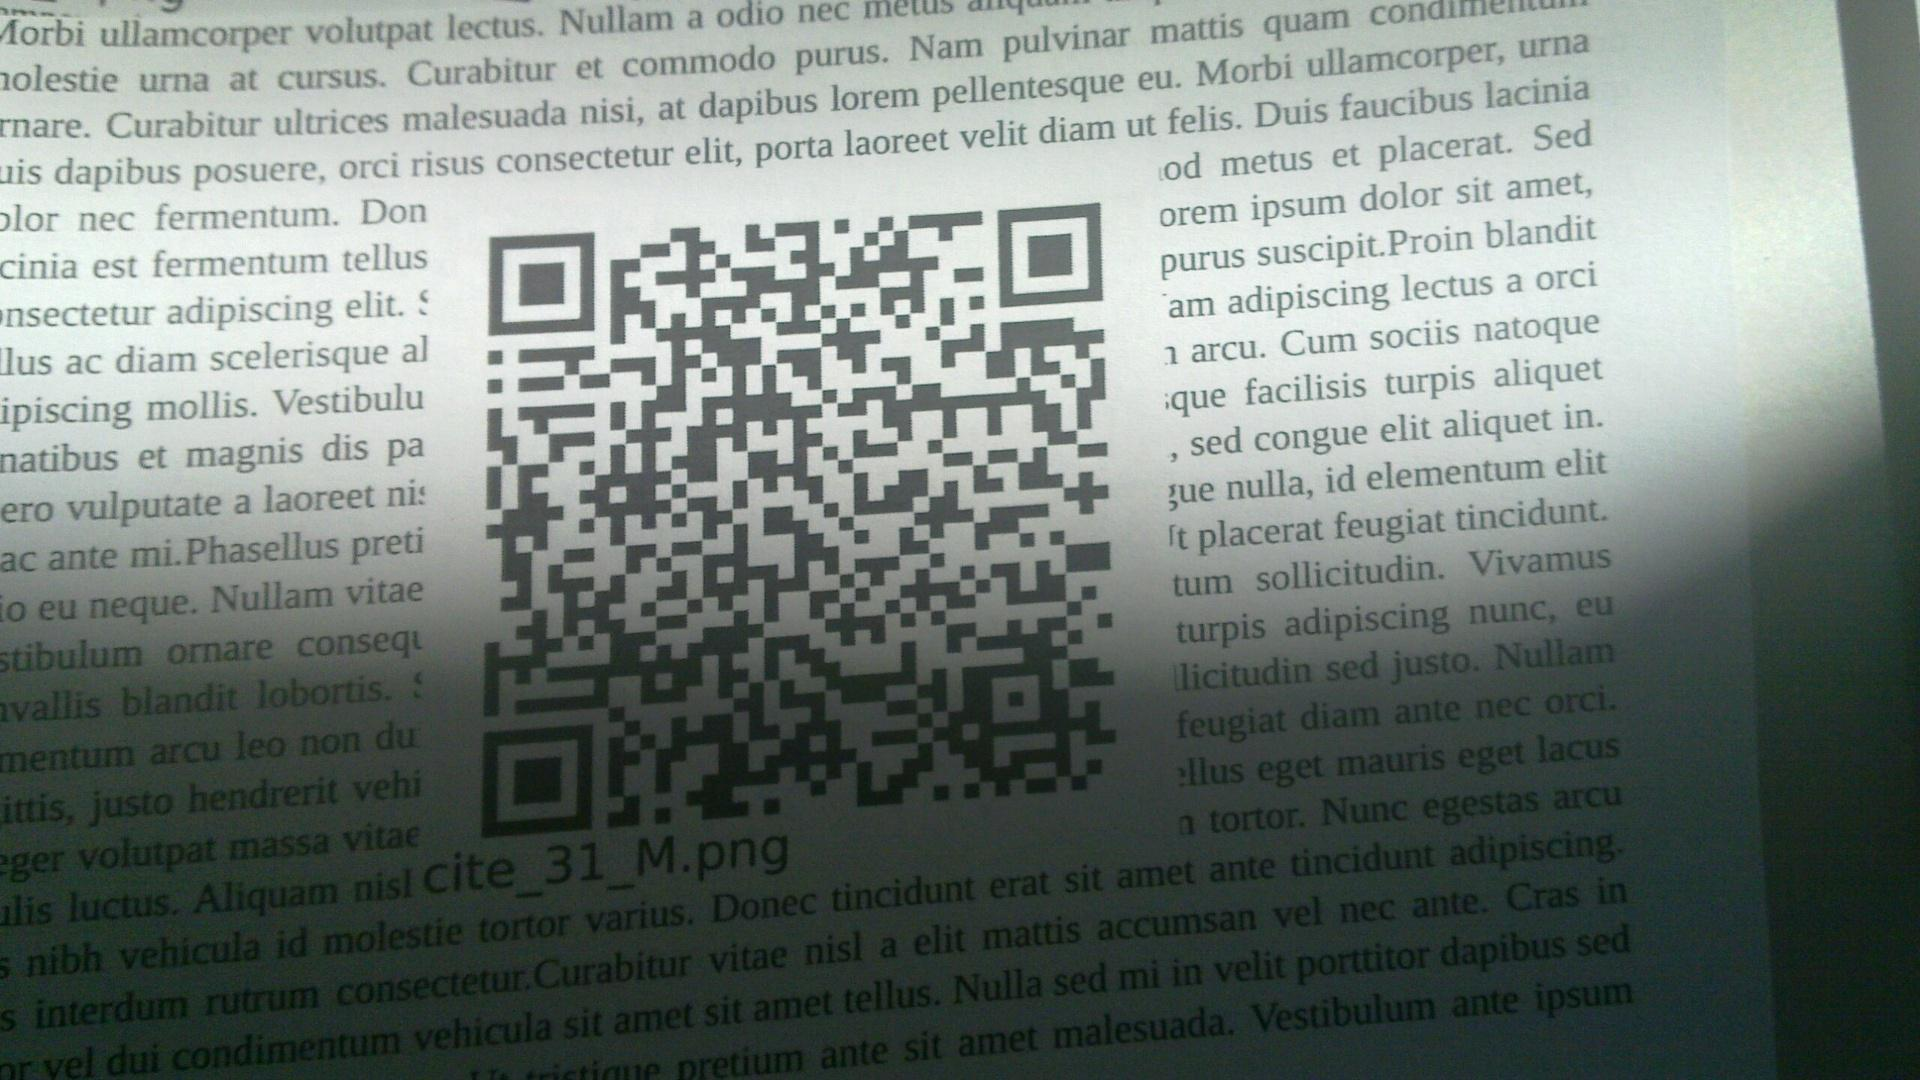Finder pattern: (992, 196, 1110, 313), (477, 724, 597, 837), (484, 227, 600, 336)
